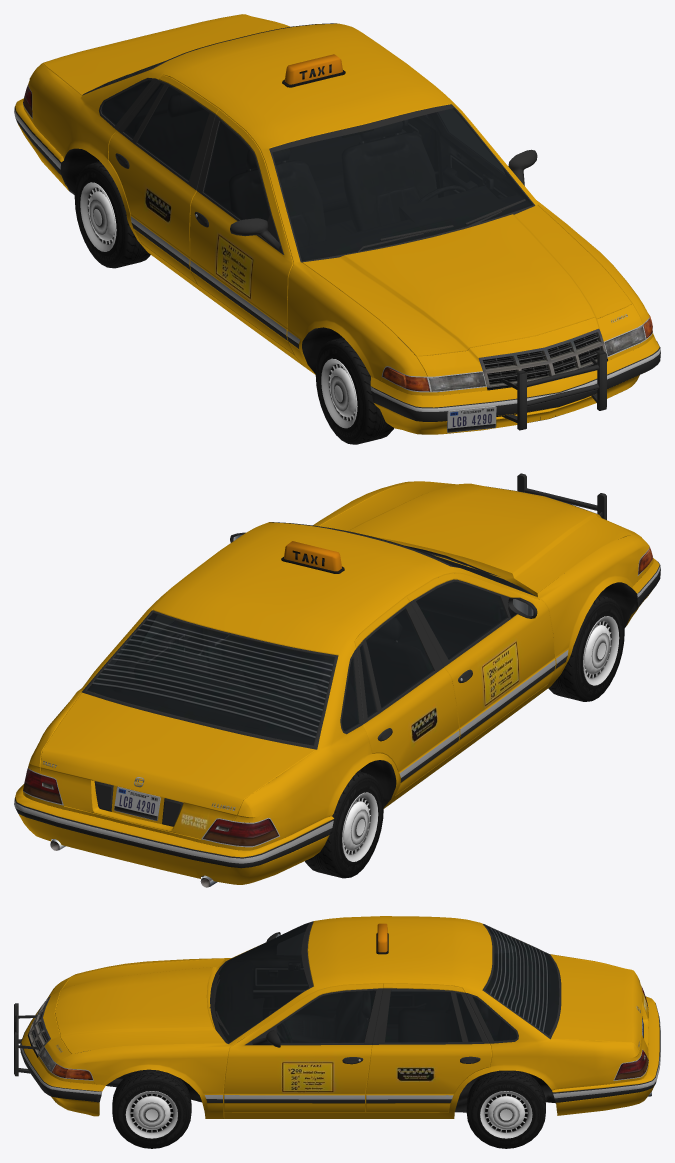
The model's file is taxi.glb.
The picture shows the model from 3 angles, top to bottom: view 1: azimuth 30°, elevation 25°; view 2: azimuth 150°, elevation 25°; view 3: azimuth 270°, elevation 25°; orthographic projection. The views are drawn at different scales.
Visible parts, largest first — view 1: Illinois90_Body_Illinois90_Bodymat_0, Illinois90_Interior_UCB_Interiors_2_0, Illinois90_Hood_Illinois90_Bodymat_0, Illinois90_Windshield_UCB_Lights_and_Glass_Transperent_0, Illinois90_Bottom_UCB_BOTTOM_0, Illinois90_Trunkdoor_Illinois90_Bodymat_0, Illinois90_Bumper_front_Illinois90_Bodymat_0, Illinois90_Body_Glass_UCB_Lights_and_Glass_Transperent_0, wheel_FR, wheel_RR, Illinois90_Glass_Passenger_UCB_Lights_and_Glass_Transperent_, Illinois90_Bumper_front_inner_UCB_BOTTOM_0 (+8 smaller); view 2: Illinois90_Body_Illinois90_Bodymat_0, Illinois90_Interior_UCB_Interiors_2_0, Illinois90_Trunkdoor_Illinois90_Bodymat_0, Illinois90_Rear_Glass_UCB_Lights_and_Glass_Transperent_0, Illinois90_Hood_Illinois90_Bodymat_0, Illinois90_Bottom_UCB_BOTTOM_0, Illinois90_Bumper_rear_Illinois90_Bodymat_0, Illinois90_Body_Glass_UCB_Lights_and_Glass_Transperent_0, wheel_RR, wheel_FR, Illinois90_Glass_Passenger_UCB_Lights_and_Glass_Transperent_, Illinois90_Bumper_rear_inner_UCB_BOTTOM_0 (+7 smaller); view 3: Illinois90_Body_Illinois90_Bodymat_0, Illinois90_Interior_UCB_Interiors_2_0, Illinois90_Hood_Illinois90_Bodymat_0, Illinois90_Bottom_UCB_BOTTOM_0, Illinois90_Trunkdoor_Illinois90_Bodymat_0, Illinois90_Windshield_UCB_Lights_and_Glass_Transperent_0, wheel_RL, wheel_FL, Illinois90_Body_Glass_UCB_Lights_and_Glass_Transperent_0, Illinois90_Rear_Glass_UCB_Lights_and_Glass_Transperent_0, Illinois90_glass_Driver_UCB_Lights_and_Glass_Transperent_0, Illinois90_Bumper_rear_Illinois90_Bodymat_0 (+9 smaller).
Boxes of the visible parts, <box> form: Illinois90_Body_Illinois90_Bodymat_0: <box>23,14,653,395</box>; Illinois90_Interior_UCB_Interiors_2_0: <box>103,70,532,260</box>; Illinois90_Hood_Illinois90_Bodymat_0: <box>302,205,631,356</box>; Illinois90_Windshield_UCB_Lights_and_Glass_Transperent_0: <box>272,108,533,261</box>; Illinois90_Bottom_UCB_BOTTOM_0: <box>23,23,652,433</box>; Illinois90_Trunkdoor_Illinois90_Bodymat_0: <box>42,14,285,95</box>; Illinois90_Bumper_front_Illinois90_Bodymat_0: <box>370,334,659,434</box>; Illinois90_Body_Glass_UCB_Lights_and_Glass_Transperent_0: <box>101,80,426,181</box>; wheel_FR: <box>315,337,394,444</box>; wheel_RR: <box>74,161,150,268</box>; Illinois90_Glass_Passenger_UCB_Lights_and_Glass_Transperent_: <box>203,121,269,221</box>; Illinois90_Bumper_front_inner_UCB_BOTTOM_0: <box>370,341,660,421</box>; Illinois90_Body_Illinois90_Bodymat_0: <box>23,481,653,850</box>; Illinois90_Interior_UCB_Interiors_2_0: <box>88,560,529,772</box>; Illinois90_Trunkdoor_Illinois90_Bodymat_0: <box>40,692,315,839</box>; Illinois90_Rear_Glass_UCB_Lights_and_Glass_Transperent_0: <box>87,613,334,745</box>; Illinois90_Hood_Illinois90_Bodymat_0: <box>319,481,632,596</box>; Illinois90_Bottom_UCB_BOTTOM_0: <box>23,486,652,887</box>; Illinois90_Bumper_rear_Illinois90_Bodymat_0: <box>15,784,333,884</box>; Illinois90_Body_Glass_UCB_Lights_and_Glass_Transperent_0: <box>104,609,433,731</box>; wheel_RR: <box>305,771,383,878</box>; wheel_FR: <box>548,595,624,701</box>; Illinois90_Glass_Passenger_UCB_Lights_and_Glass_Transperent_: <box>416,581,507,659</box>; Illinois90_Bumper_rear_inner_UCB_BOTTOM_0: <box>14,797,333,868</box>; Illinois90_Body_Illinois90_Bodymat_0: <box>38,916,648,1118</box>; Illinois90_Interior_UCB_Interiors_2_0: <box>215,923,558,1042</box>; Illinois90_Hood_Illinois90_Bodymat_0: <box>55,958,225,1054</box>; Illinois90_Bottom_UCB_BOTTOM_0: <box>27,921,651,1118</box>; Illinois90_Trunkdoor_Illinois90_Bodymat_0: <box>551,955,648,1059</box>; Illinois90_Windshield_UCB_Lights_and_Glass_Transperent_0: <box>214,923,309,1042</box>; wheel_RL: <box>466,1070,545,1148</box>; wheel_FL: <box>112,1069,191,1148</box>; Illinois90_Body_Glass_UCB_Lights_and_Glass_Transperent_0: <box>385,935,516,1042</box>; Illinois90_Rear_Glass_UCB_Lights_and_Glass_Transperent_0: <box>485,926,559,1035</box>; Illinois90_glass_Driver_UCB_Lights_and_Glass_Transperent_0: <box>277,990,375,1043</box>; Illinois90_Bumper_rear_Illinois90_Bodymat_0: <box>552,996,659,1115</box>.
Size of the model in its own units: 2.01 by 1.47 by 5.
8 materials, 8 textured.
